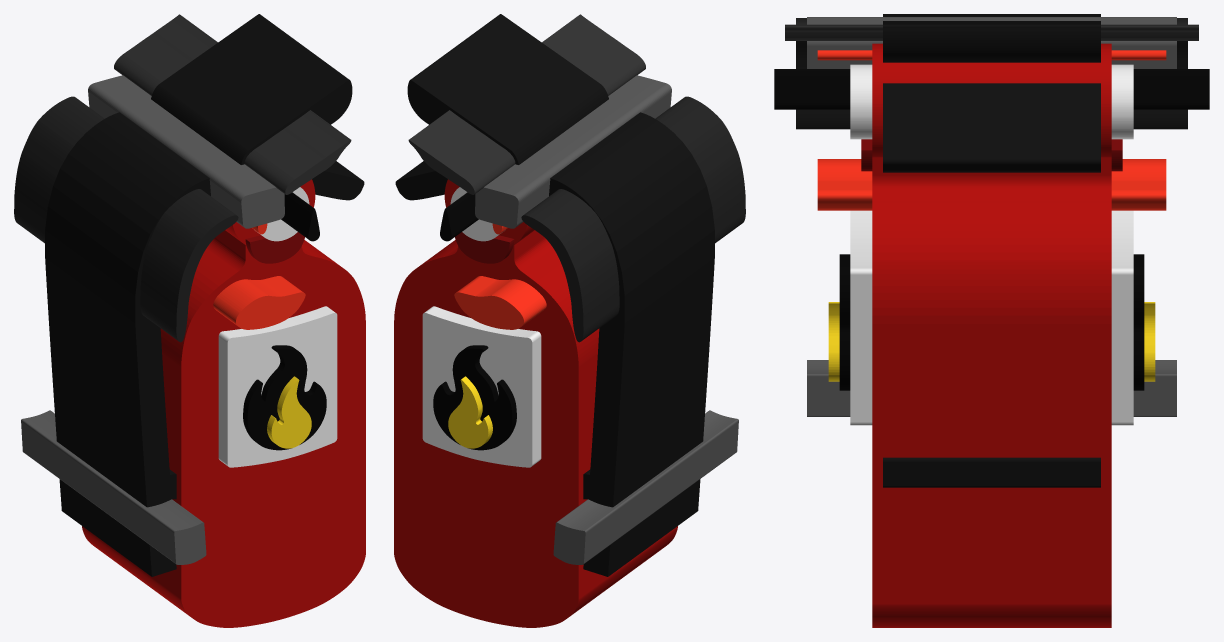
3 views of the same model, side by side, from view 1: azimuth 30°, elevation 25°; view 2: azimuth 150°, elevation 25°; view 3: azimuth 270°, elevation 25° (orthographic). The views are drawn at different scales.
Visible parts, largest first — view 1: U+1F9EF_layer01_obj00, U+1F9EF_layer00_obj00, U+1F9EF_layer00_obj03, U+1F9EF_layer08_obj00, U+1F9EF_layer03_obj00, U+1F9EF_layer09_obj00, U+1F9EF_layer07_obj01, U+1F9EF_layer07_obj00, U+1F9EF_layer04_obj00, U+1F9EF_layer06_obj00, U+1F9EF_layer05_obj00, U+1F9EF_layer00_obj02 (+4 smaller); view 2: U+1F9EF_layer01_obj00, U+1F9EF_layer00_obj00, U+1F9EF_layer00_obj03, U+1F9EF_layer08_obj00, U+1F9EF_layer03_obj00, U+1F9EF_layer09_obj00, U+1F9EF_layer07_obj01, U+1F9EF_layer07_obj00, U+1F9EF_layer04_obj00, U+1F9EF_layer06_obj00, U+1F9EF_layer05_obj00, U+1F9EF_layer00_obj02 (+4 smaller); view 3: U+1F9EF_layer01_obj00, U+1F9EF_layer00_obj02, U+1F9EF_layer03_obj00, U+1F9EF_layer00_obj03, U+1F9EF_layer01_obj01, U+1F9EF_layer00_obj01, U+1F9EF_layer10_obj00, U+1F9EF_layer06_obj00, U+1F9EF_layer07_obj01, U+1F9EF_layer07_obj00, U+1F9EF_layer03_obj01, U+1F9EF_layer09_obj00 (+6 smaller).
Boxes of the visible parts, bbox=[...] form: U+1F9EF_layer01_obj00: bbox=[82, 228, 365, 627]; U+1F9EF_layer00_obj00: bbox=[45, 112, 210, 576]; U+1F9EF_layer00_obj03: bbox=[151, 14, 352, 164]; U+1F9EF_layer08_obj00: bbox=[14, 96, 238, 342]; U+1F9EF_layer03_obj00: bbox=[218, 306, 337, 467]; U+1F9EF_layer09_obj00: bbox=[114, 14, 351, 194]; U+1F9EF_layer07_obj01: bbox=[88, 75, 284, 228]; U+1F9EF_layer07_obj00: bbox=[21, 410, 206, 564]; U+1F9EF_layer04_obj00: bbox=[243, 345, 326, 450]; U+1F9EF_layer06_obj00: bbox=[213, 276, 305, 329]; U+1F9EF_layer05_obj00: bbox=[267, 376, 311, 448]; U+1F9EF_layer00_obj02: bbox=[312, 161, 364, 200]; U+1F9EF_layer01_obj00: bbox=[394, 228, 677, 627]; U+1F9EF_layer00_obj00: bbox=[549, 112, 714, 576]; U+1F9EF_layer00_obj03: bbox=[407, 14, 608, 164]; U+1F9EF_layer08_obj00: bbox=[521, 96, 745, 342]; U+1F9EF_layer03_obj00: bbox=[422, 306, 541, 467]; U+1F9EF_layer09_obj00: bbox=[408, 14, 645, 194]; U+1F9EF_layer07_obj01: bbox=[475, 75, 671, 228]; U+1F9EF_layer07_obj00: bbox=[553, 410, 738, 564]; U+1F9EF_layer04_obj00: bbox=[433, 345, 516, 450]; U+1F9EF_layer06_obj00: bbox=[454, 276, 546, 329]; U+1F9EF_layer05_obj00: bbox=[448, 376, 492, 448]; U+1F9EF_layer00_obj02: bbox=[395, 161, 447, 200]; U+1F9EF_layer01_obj00: bbox=[872, 157, 1111, 627]; U+1F9EF_layer00_obj02: bbox=[883, 83, 1100, 172]; U+1F9EF_layer03_obj00: bbox=[850, 210, 1133, 425]; U+1F9EF_layer00_obj03: bbox=[883, 21, 1100, 62]; U+1F9EF_layer01_obj01: bbox=[872, 43, 1111, 157]; U+1F9EF_layer00_obj01: bbox=[883, 457, 1100, 487]; U+1F9EF_layer10_obj00: bbox=[774, 69, 1209, 109]; U+1F9EF_layer06_obj00: bbox=[817, 159, 1166, 210]; U+1F9EF_layer07_obj01: bbox=[807, 17, 1176, 68]; U+1F9EF_layer07_obj00: bbox=[807, 360, 1176, 416]; U+1F9EF_layer03_obj01: bbox=[850, 64, 1133, 139]; U+1F9EF_layer09_obj00: bbox=[785, 24, 1198, 40].
Size of the model in its own units: 0.1468 by 0.3173 by 0.2.
